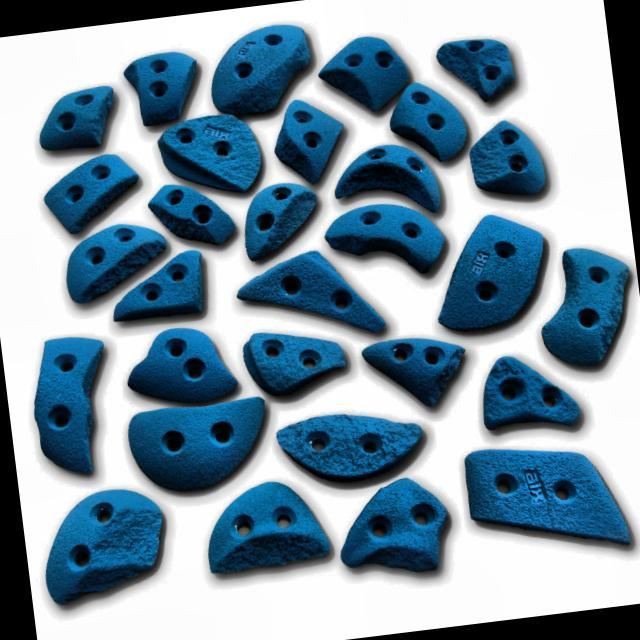Hold: (458, 428, 634, 570), (42, 481, 174, 609), (236, 246, 388, 355), (427, 210, 554, 334), (267, 404, 438, 496), (123, 398, 274, 500), (202, 475, 328, 584), (23, 331, 115, 480), (335, 473, 455, 578), (542, 246, 640, 374), (474, 348, 588, 442), (202, 19, 314, 112), (334, 134, 451, 222), (147, 118, 270, 200), (353, 328, 470, 412), (121, 320, 236, 404), (324, 194, 438, 276), (60, 220, 174, 301), (38, 150, 148, 233), (242, 324, 356, 403), (105, 250, 220, 322), (462, 112, 553, 200), (386, 74, 468, 169), (320, 24, 410, 110), (264, 88, 342, 180), (139, 175, 225, 249), (34, 82, 120, 152), (432, 32, 513, 104), (124, 49, 206, 120)
